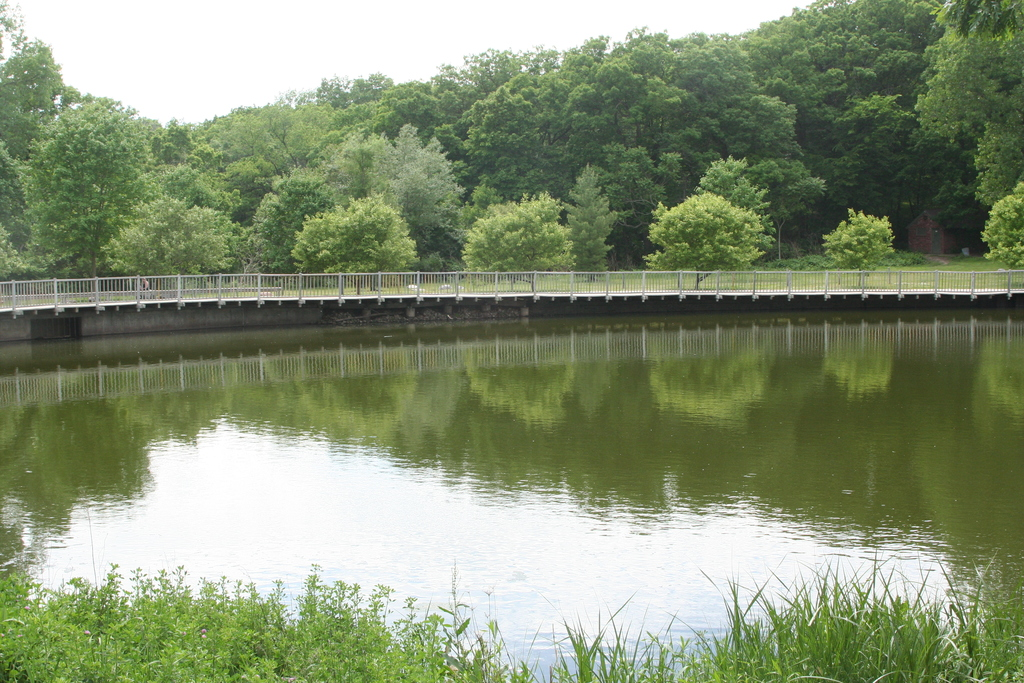Tree: (0, 0, 1024, 296)
